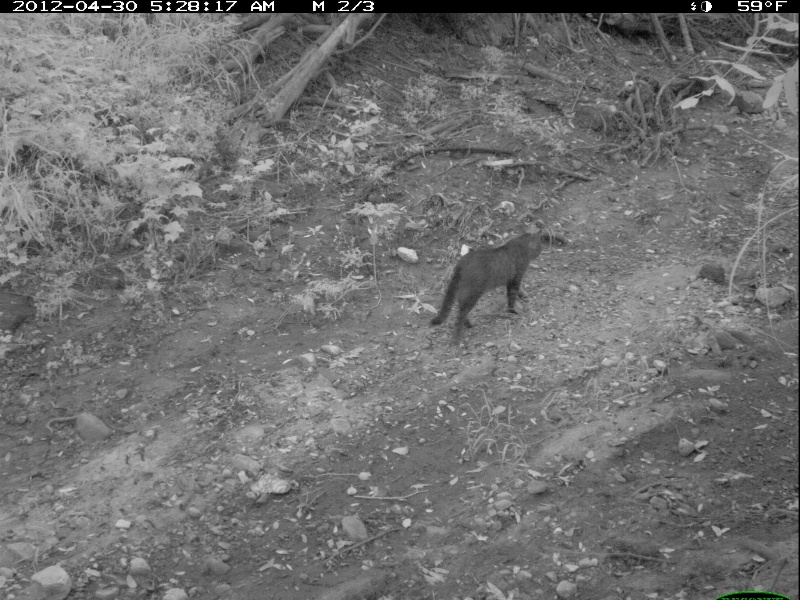cat: (431, 230, 547, 341)
